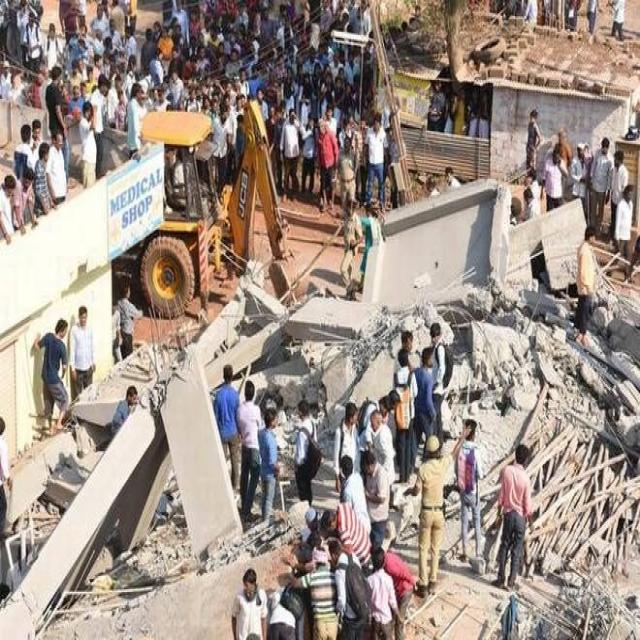collapsed_building: (140, 261, 639, 638)
